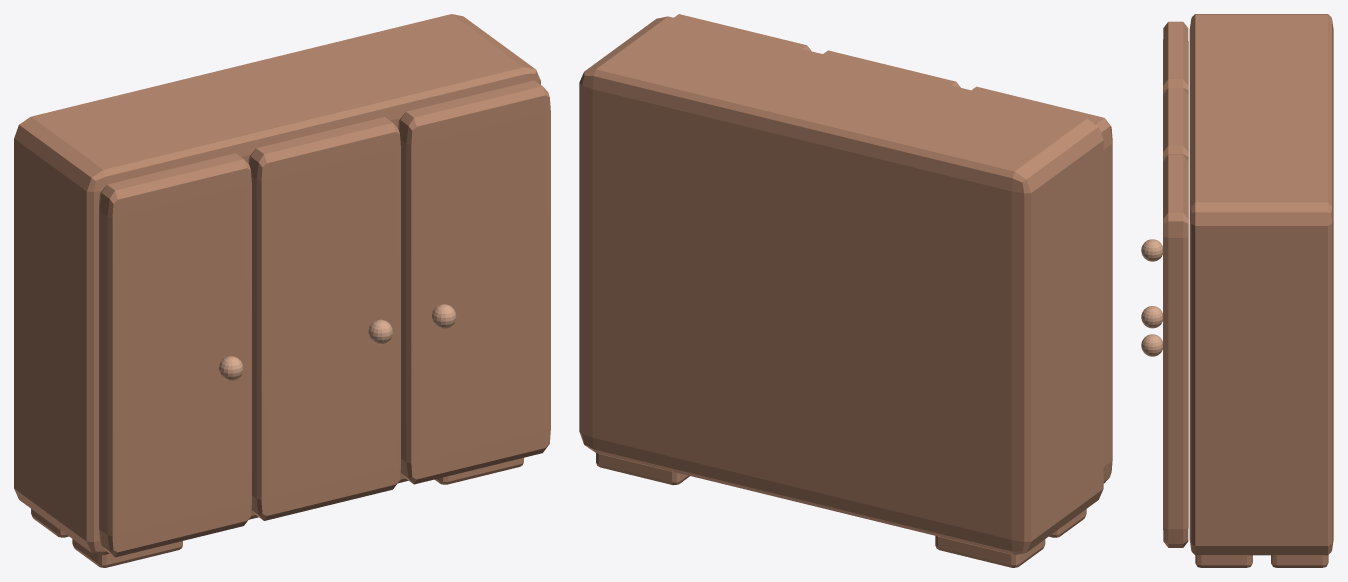
File: Bedroom_BigDrawer.fbx
The picture shows the model from 3 angles, left to right: view 1: azimuth 30°, elevation 25°; view 2: azimuth 150°, elevation 25°; view 3: azimuth 270°, elevation 25°; orthographic projection. The views are drawn at different scales.
Parts seen in each view (by area): view 1: Bedroom_BigDrawer.001, Bedroom_BigDrawer; view 2: Bedroom_BigDrawer.001; view 3: Bedroom_BigDrawer.001, Bedroom_BigDrawer.
Boxes of the visible parts, x1,y1,x2,y2 form: Bedroom_BigDrawer.001: (14, 14, 550, 567); Bedroom_BigDrawer: (219, 304, 456, 380); Bedroom_BigDrawer.001: (579, 14, 1112, 567); Bedroom_BigDrawer.001: (1162, 14, 1333, 567); Bedroom_BigDrawer: (1141, 239, 1162, 356).
Size of the model in its own units: 89.96 by 189 by 224.
